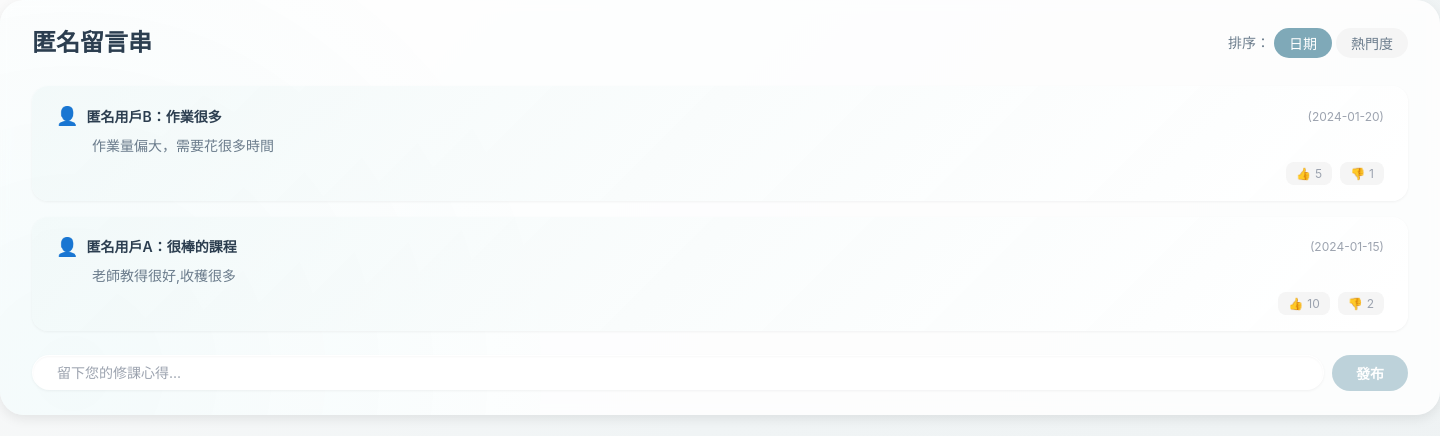
course comments › enables submit button when input has value
Type "新留言" into the field with class "comments__input" at (678, 373), box [32, 355, 1324, 390]
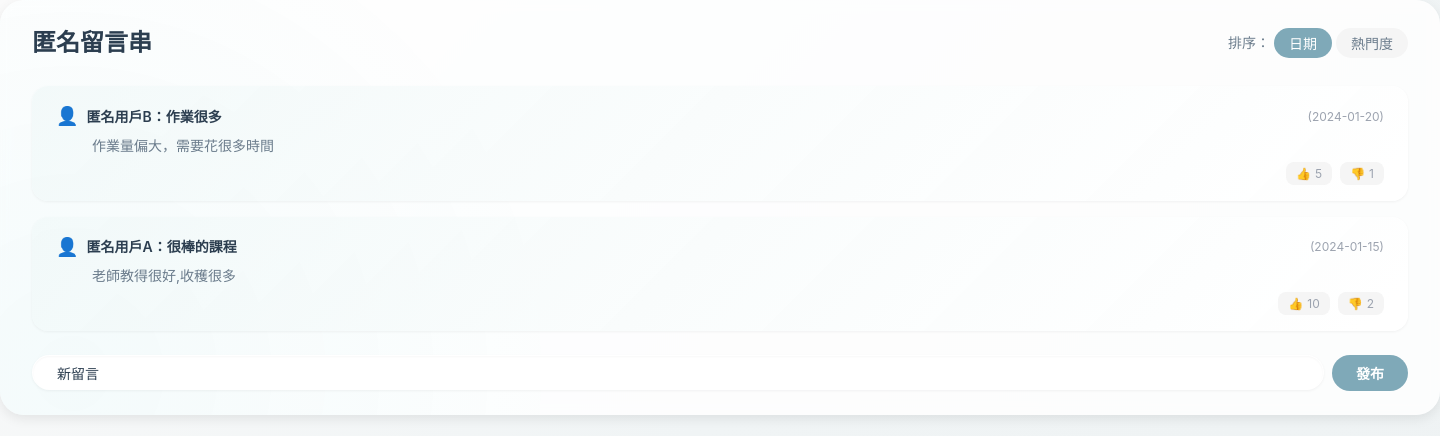
expect the button with class "comments__submit-btn" is enabled: met, box [1332, 355, 1408, 391]
